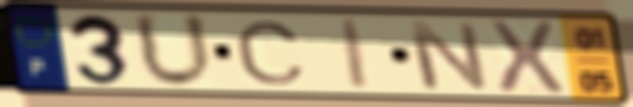3: (66, 10, 141, 89)
C: (232, 19, 311, 87)
I: (336, 16, 374, 93)
N: (403, 19, 493, 92)
U: (129, 10, 219, 92)
X: (483, 17, 570, 97)
